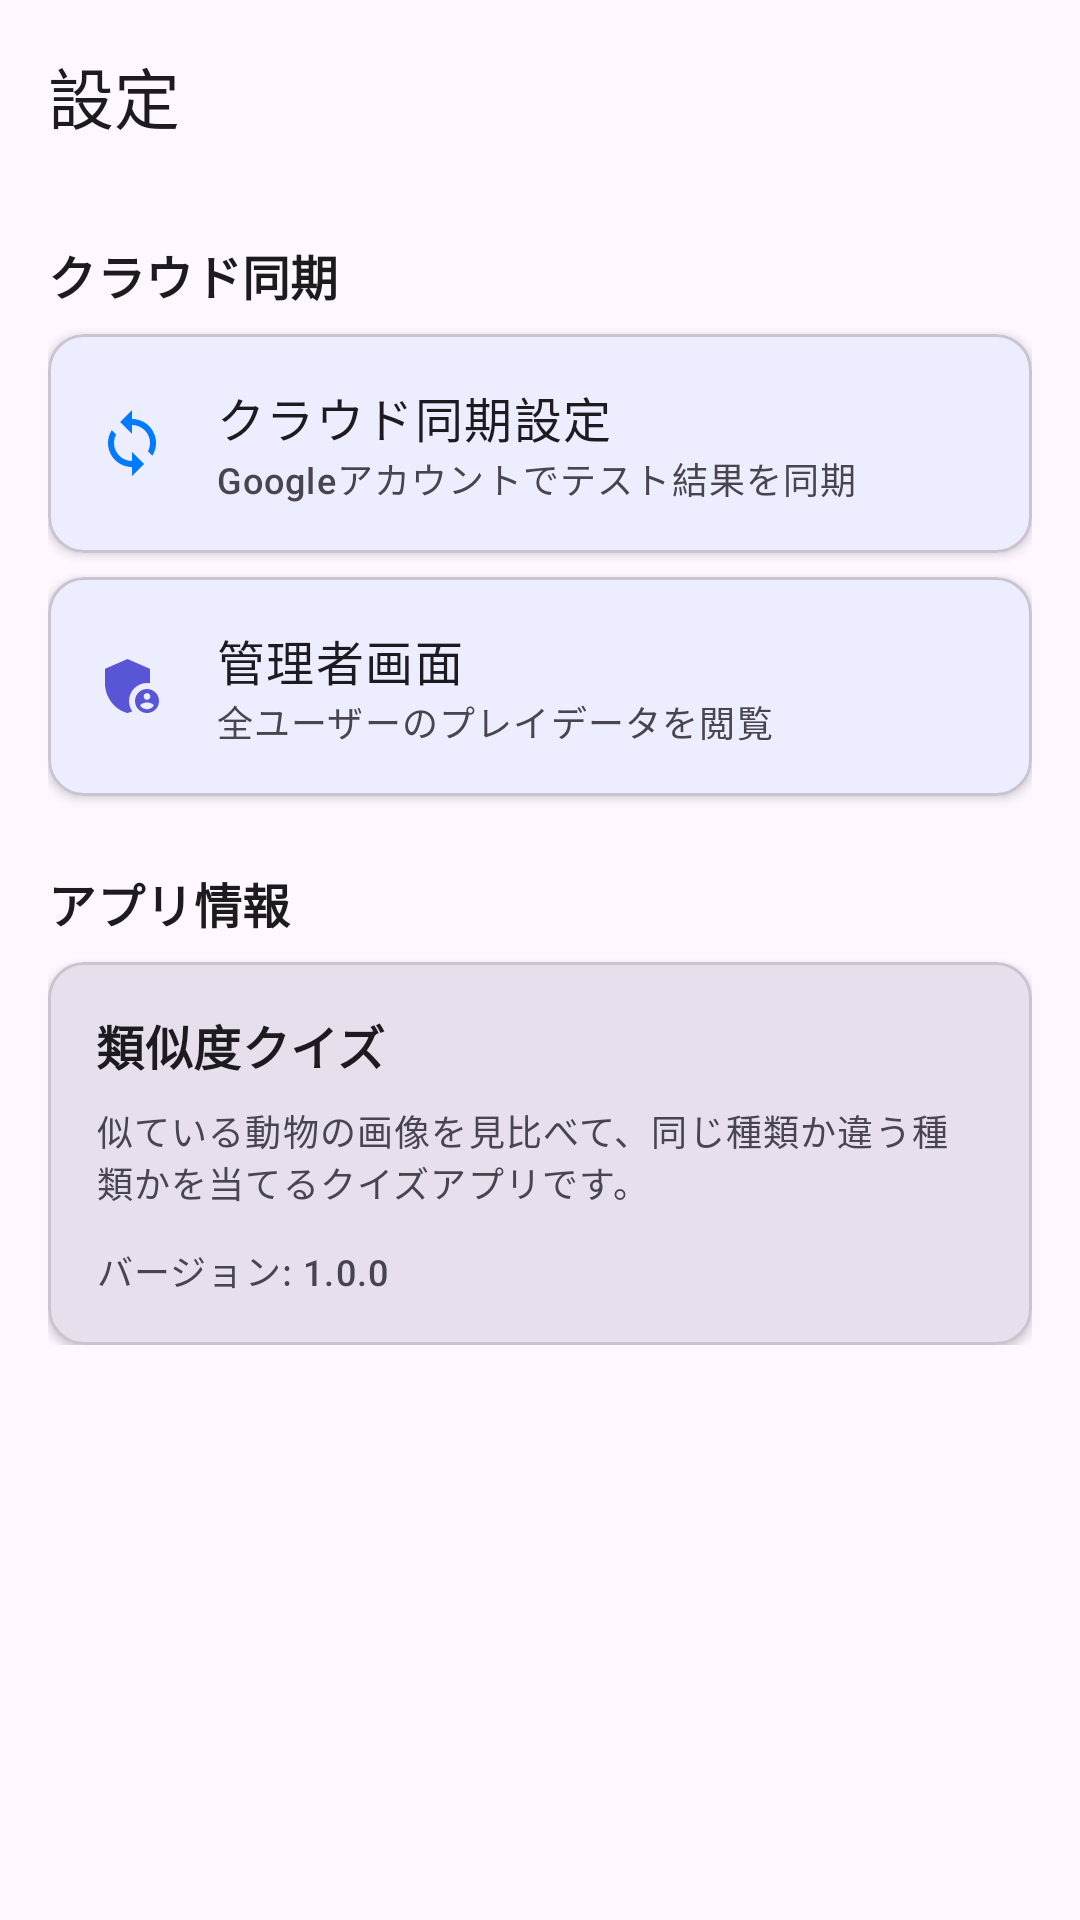

Where icons sit on this 1080x1920 app screen, as (x1, y1, x2, y2):
admin: (105, 659, 159, 713)
sync: (108, 410, 156, 476)
